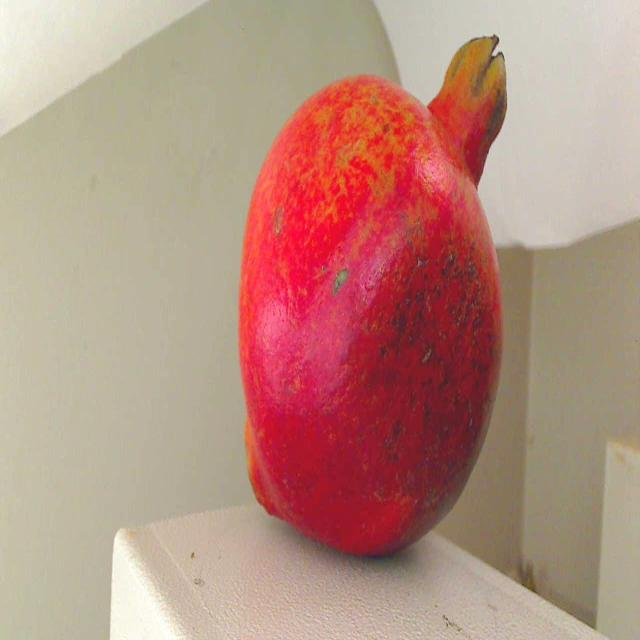pomegranate: (216, 24, 518, 567)
